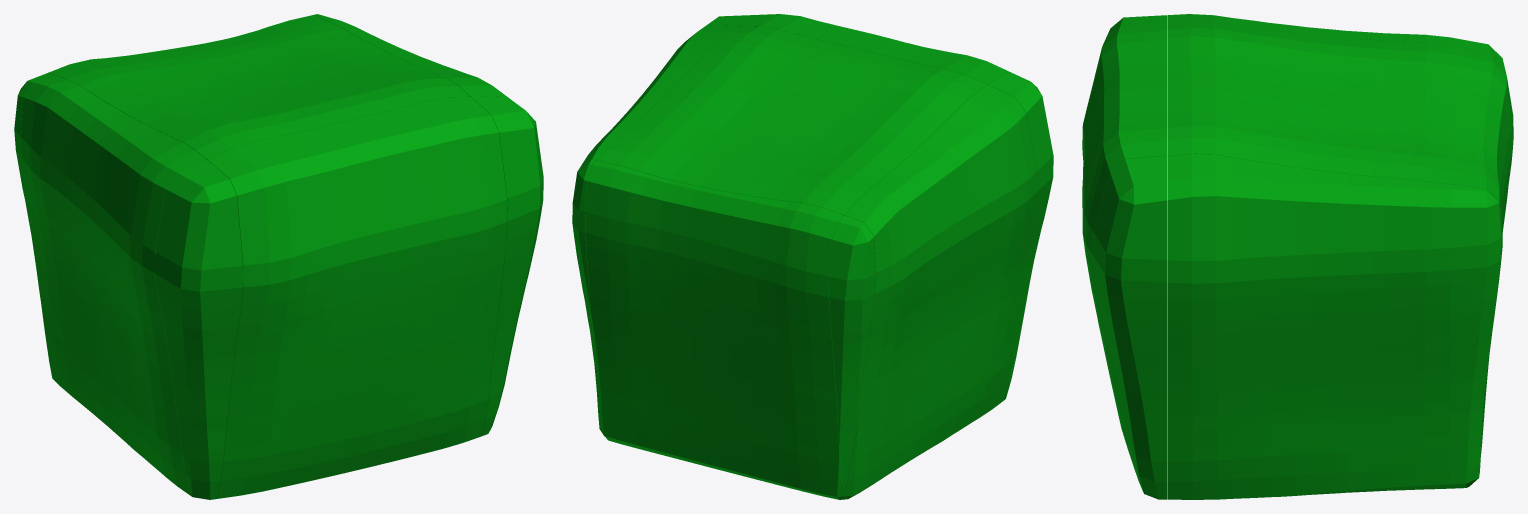
Rendered from 4by10beveledsubdivided.019.fbx.
3 views of the same model, side by side, from view 1: azimuth 30°, elevation 25°; view 2: azimuth 150°, elevation 25°; view 3: azimuth 270°, elevation 25° (orthographic). The views are drawn at different scales.
Parts seen in each view (by area): view 1: 4by10beveledsubdivided.019; view 2: 4by10beveledsubdivided.019; view 3: 4by10beveledsubdivided.019.
Part boxes in pixels (bbox=[...]): 4by10beveledsubdivided.019: bbox=[14, 14, 543, 499]; 4by10beveledsubdivided.019: bbox=[572, 14, 1053, 499]; 4by10beveledsubdivided.019: bbox=[1082, 14, 1513, 499].
Size of the model in its own units: 283 by 247 by 279.
